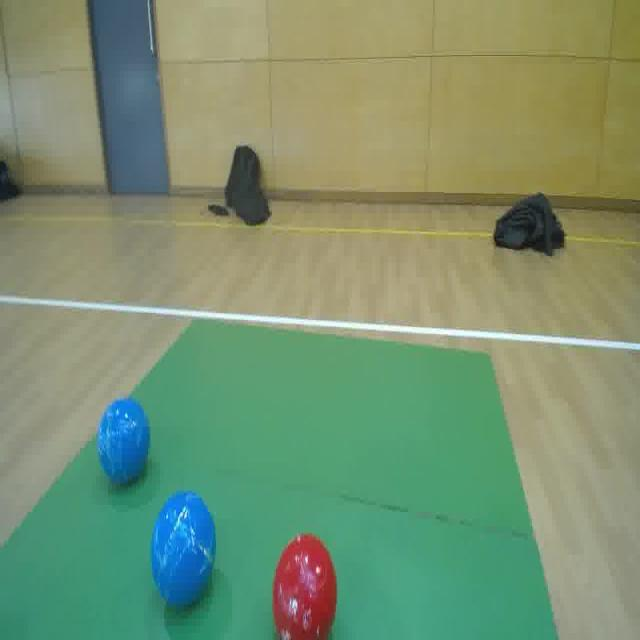blue_ball: (147, 483, 218, 616), (95, 394, 153, 491)
red_ball: (270, 528, 340, 640)
